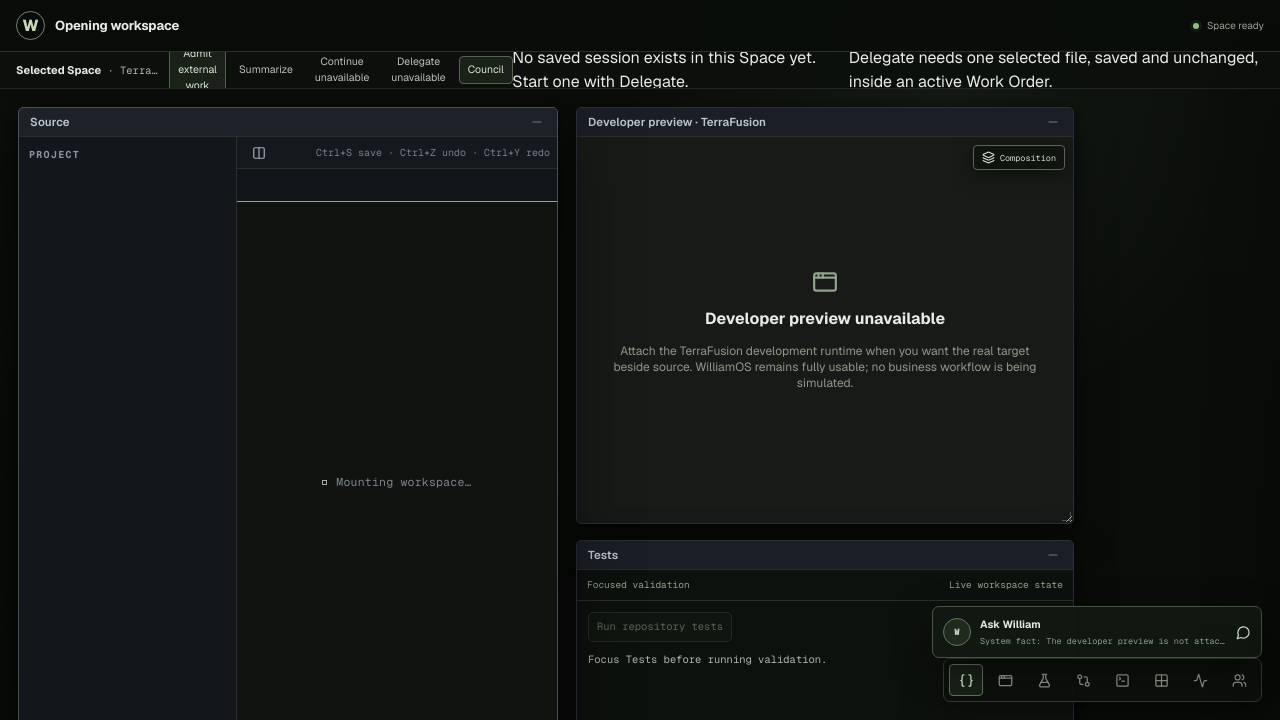
Test: Experience V2 multi-Space re-entry › projects current restored hints and inactive owned Space sessions as saved resume-unverified truth
Click the button named "Open Mission Control": {"x": 1161, "y": 680} 1144,664 -> 1178,696
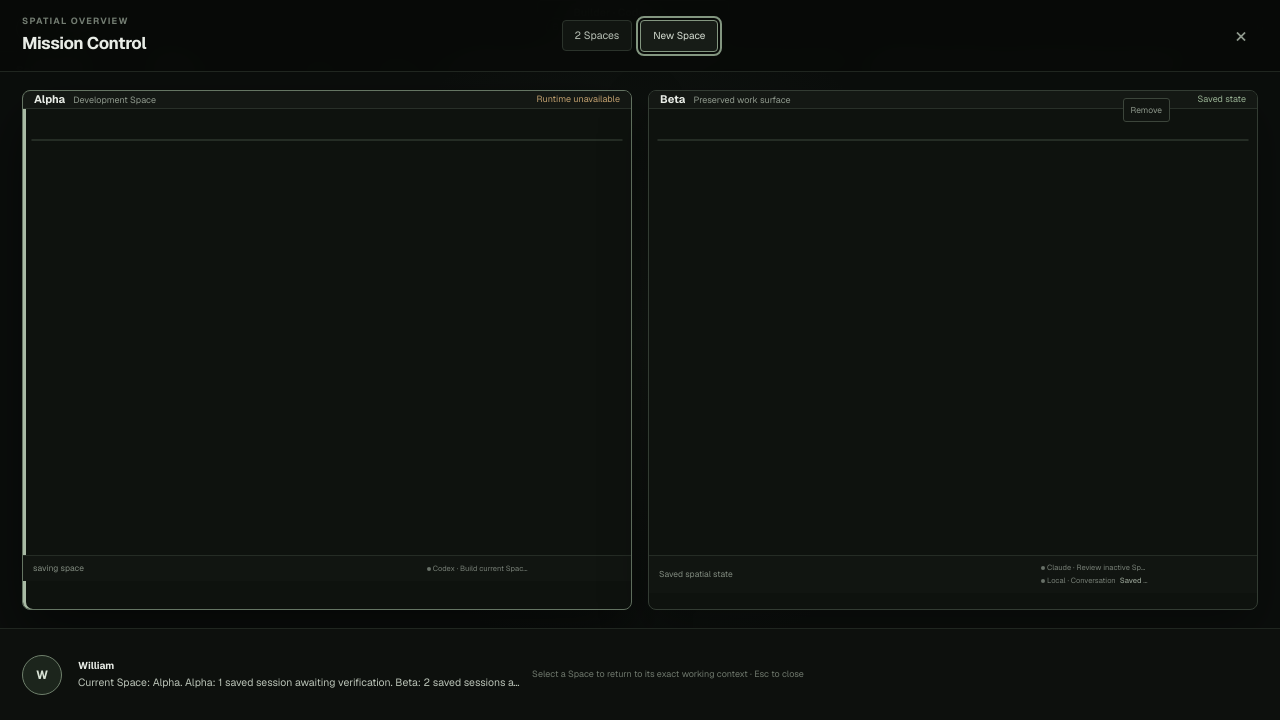
expect the button with aria-label "Enter Alpha, current Space" shows "Codex · Build current Space": met, box 22,90 -> 632,610
expect the button with aria-label "Enter Beta" shows "Claude · Review inactive Space": met, box 648,90 -> 1258,610
expect the button with aria-label "Enter Beta" shows "Local · Conversation": met, box 648,90 -> 1258,610
